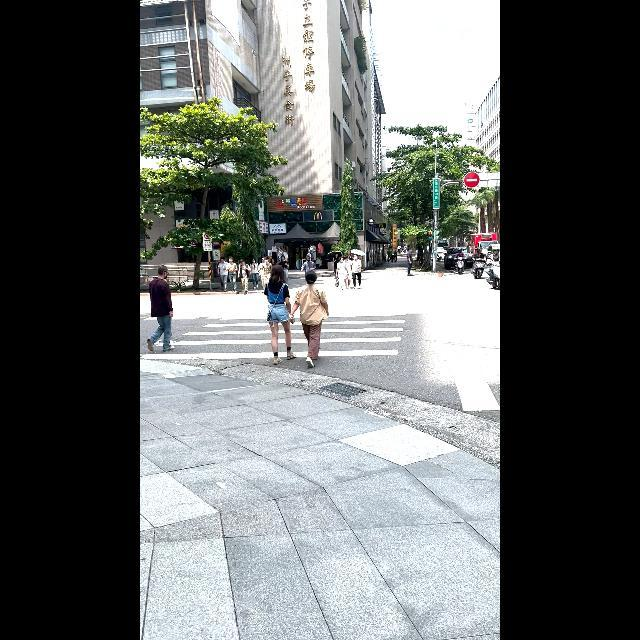sidewalk: (149, 290, 410, 363)
